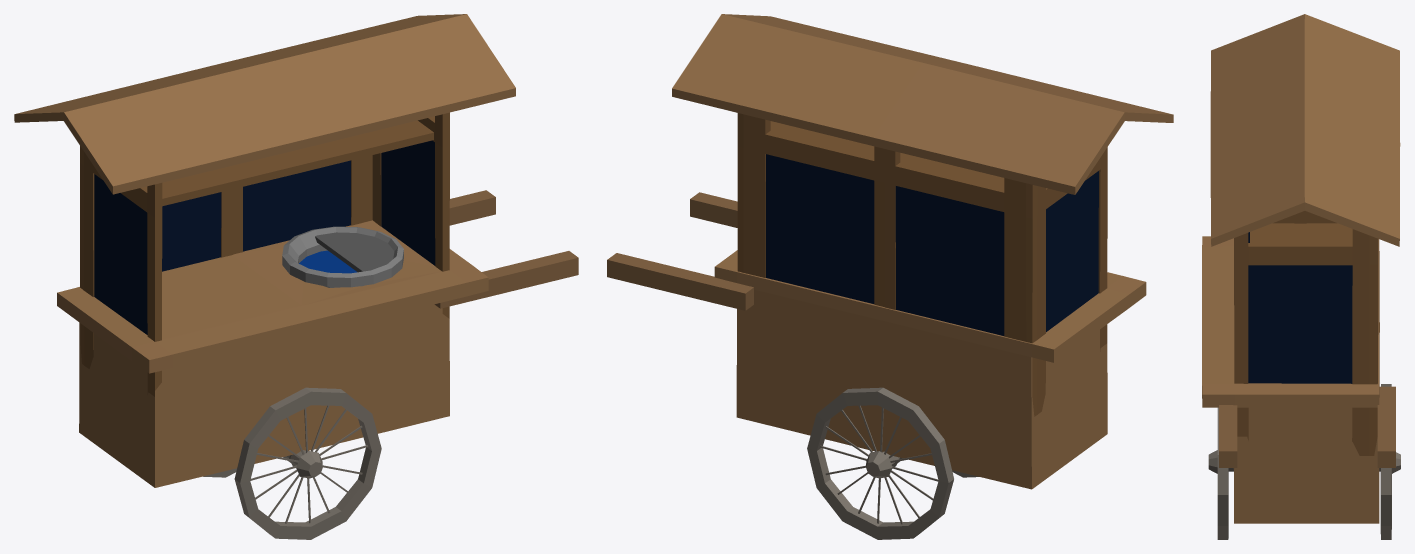
File: gerobak.fbx
The picture shows the model from 3 angles, left to right: view 1: azimuth 30°, elevation 25°; view 2: azimuth 150°, elevation 25°; view 3: azimuth 270°, elevation 25°; orthographic projection. The views are drawn at different scales.
Parts seen in each view (by area): view 1: Gerobak; view 2: Gerobak; view 3: Gerobak.
Part boxes in pixels (box(x1,y1,x2,y2)): Gerobak: box(14, 14, 578, 539); Gerobak: box(607, 14, 1173, 539); Gerobak: box(1202, 14, 1400, 539).
Bounding box in the file's own units: 172 × 155 × 65.57.
